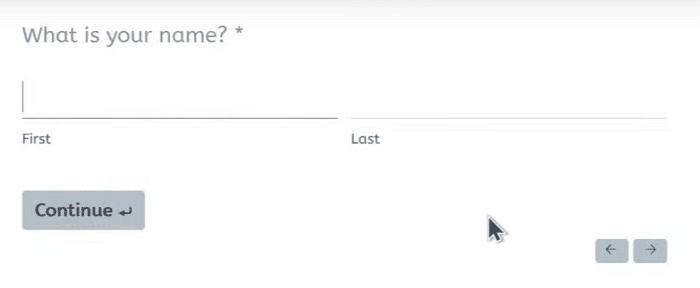button: (23, 191, 147, 231)
icon: (634, 240, 669, 265), (596, 240, 630, 265)
label: (20, 24, 249, 46)
